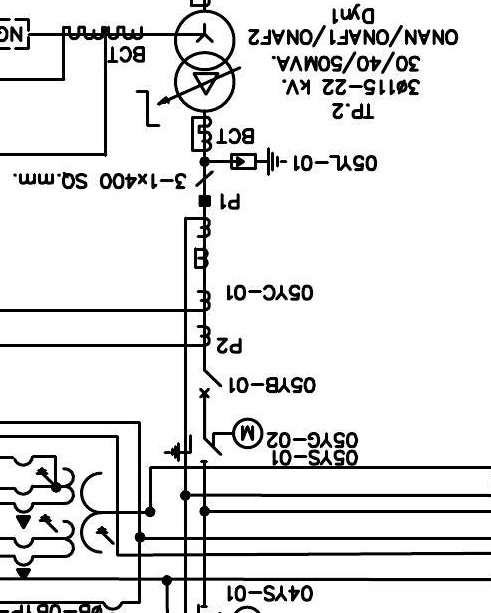11522_tx_dyn1: (173, 9, 237, 114)
115_3ways_ds_w_motor: (163, 416, 264, 463)
115_breaker: (190, 368, 214, 398)
115_la: (229, 146, 288, 177)
115_vt_1p: (12, 466, 116, 580)
